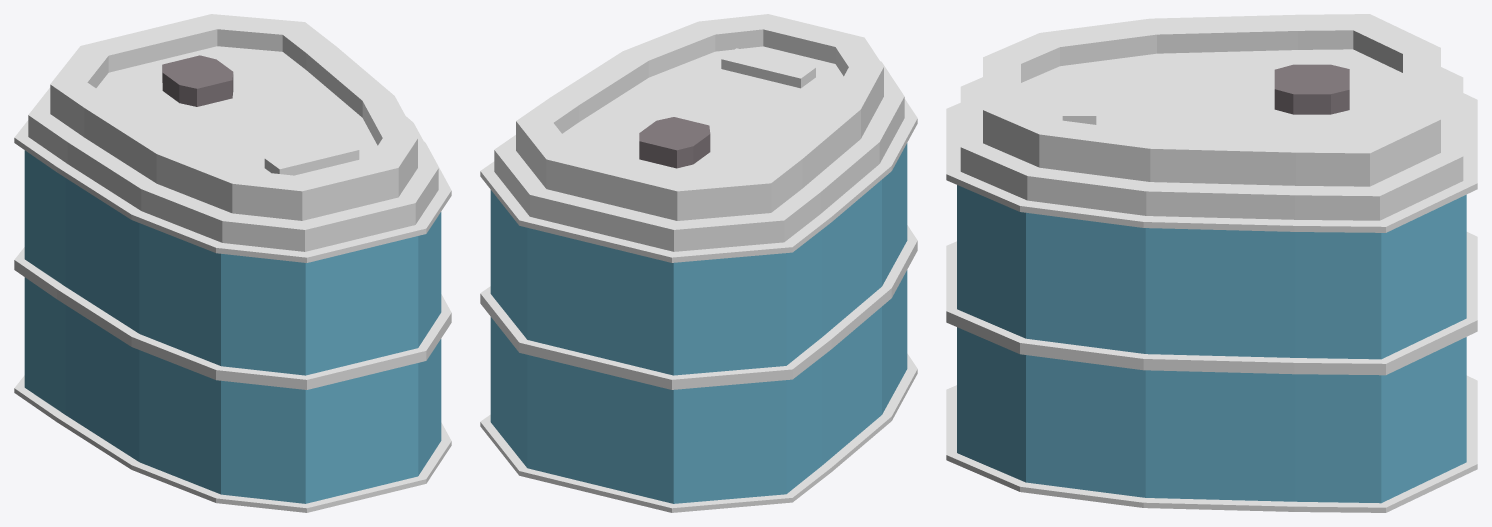
Rendered from building_1x1_10_r.glb.
3 renders of one model, left to right at view 1: azimuth 30°, elevation 25°; view 2: azimuth 150°, elevation 25°; view 3: azimuth 270°, elevation 25°, orthographic. The views are drawn at different scales.
Parts seen in each view (by area): view 1: ThurdFloor; view 2: ThurdFloor; view 3: ThurdFloor.
Part boxes in pixels (box(x1,y1,x2,y2)): ThurdFloor: box(14, 14, 451, 512); ThurdFloor: box(480, 14, 917, 512); ThurdFloor: box(946, 14, 1477, 512).
Size of the model in its own units: 1.37 by 1.29 by 1.8.
